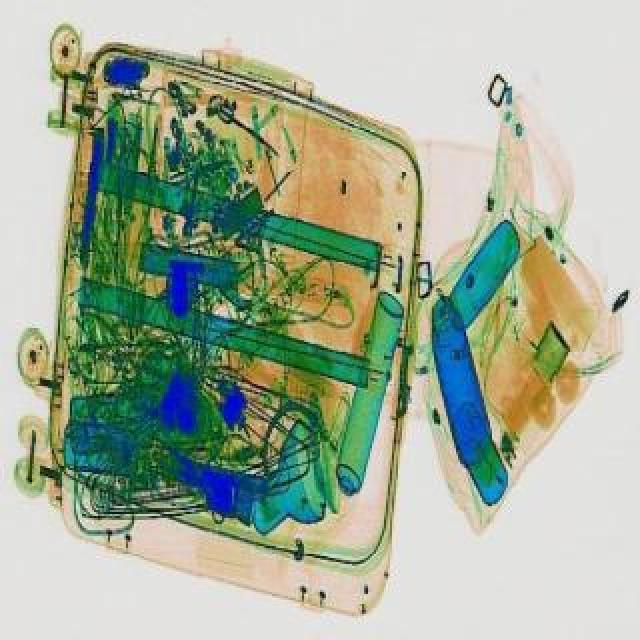pliers: (214, 104, 288, 166)
